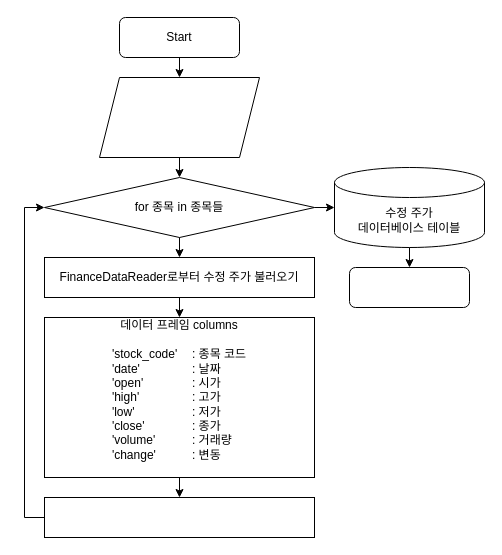
The diagram is 502 pixels wide and 555 high, and some of its shapes have lost their labels. The shapes that lost their labels are listed below. From the top down, each one's box as (x1, y1, x2, y2) in pixels, then its label:
(98, 76, 260, 158): 종목 코드 시작 날짜 (YYYY-MM-DD) 종료 날짜 (YYYY-MM-DD)
(348, 266, 470, 308): END
(44, 496, 314, 538): 출력한 DataFrame을 append
